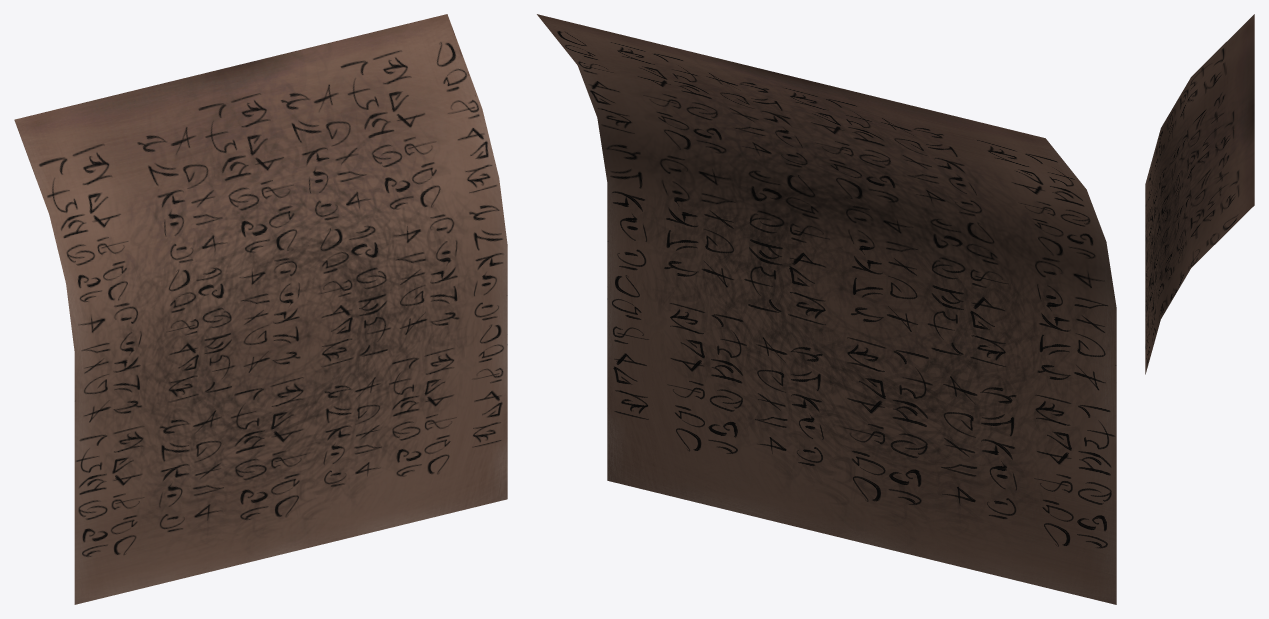
File: bookPage.fbx
The picture shows the model from 3 angles, left to right: view 1: azimuth 30°, elevation 25°; view 2: azimuth 150°, elevation 25°; view 3: azimuth 270°, elevation 25°; orthographic projection. The views are drawn at different scales.
Parts seen in each view (by area): view 1: bookPage; view 2: bookPage; view 3: bookPage.
Part boxes in pixels (bbox=[...]): bookPage: bbox=[14, 14, 507, 604]; bookPage: bbox=[537, 14, 1116, 604]; bookPage: bbox=[1145, 14, 1254, 374].
Size of the model in its own units: 34.33 by 33.41 by 8.27.
